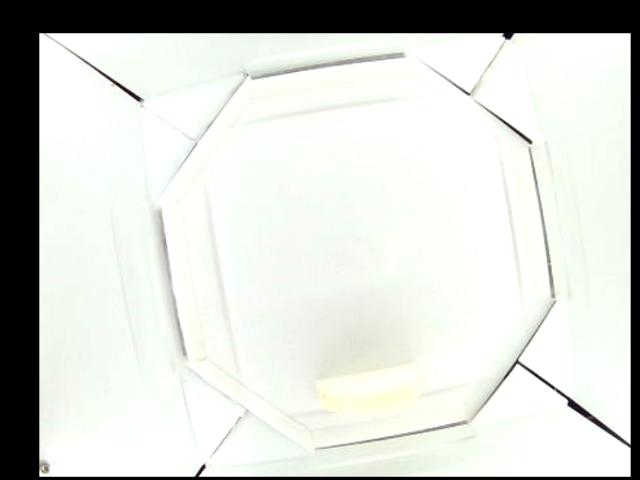Mooli: (313, 361, 423, 411)
